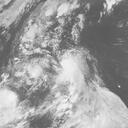cyclone: (57, 51, 88, 85)
